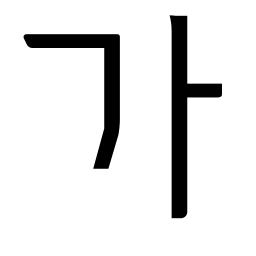Gaji: (157, 72, 211, 118)
